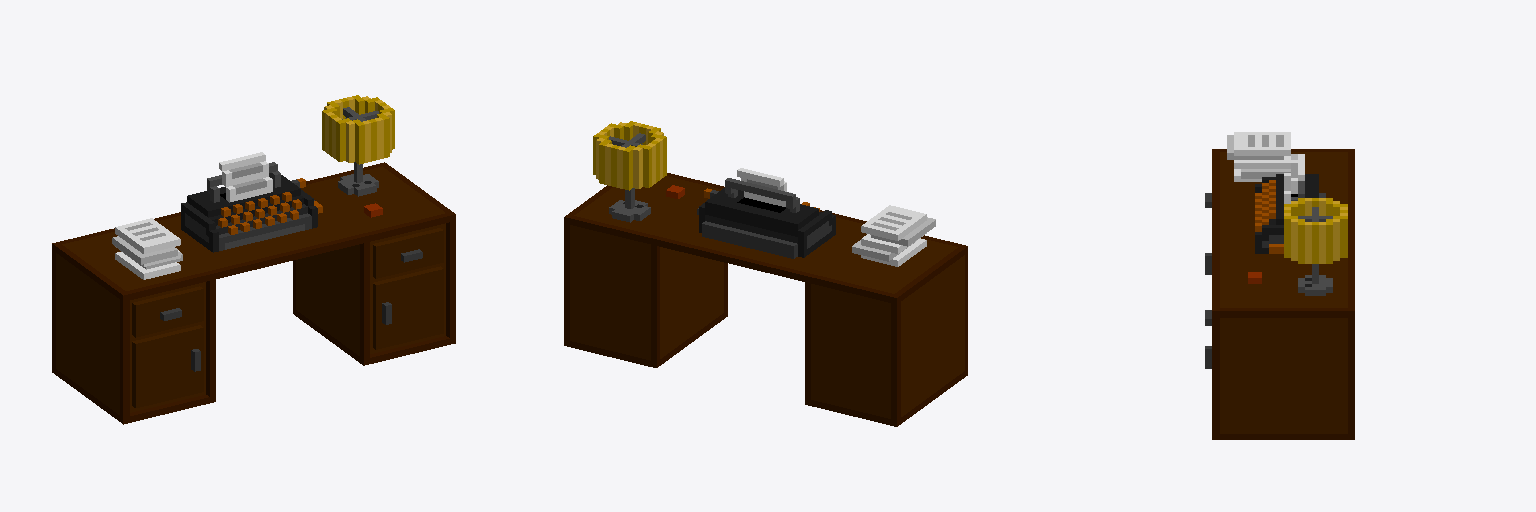
The picture shows the model from 3 angles: view 1: azimuth 30°, elevation 25°; view 2: azimuth 150°, elevation 25°; view 3: azimuth 270°, elevation 25°; orthographic projection.
Parts seen in each view (by area): view 1: object 1; view 2: object 1; view 3: object 1.
Part boxes in pixels (bbox=[...]): object 1: bbox=[52, 95, 455, 424]; object 1: bbox=[564, 121, 967, 426]; object 1: bbox=[1205, 132, 1354, 439].
Size of the model in its own units: 5.4 by 3.2 by 2.1.
Materials: 1 (1 with a texture image).